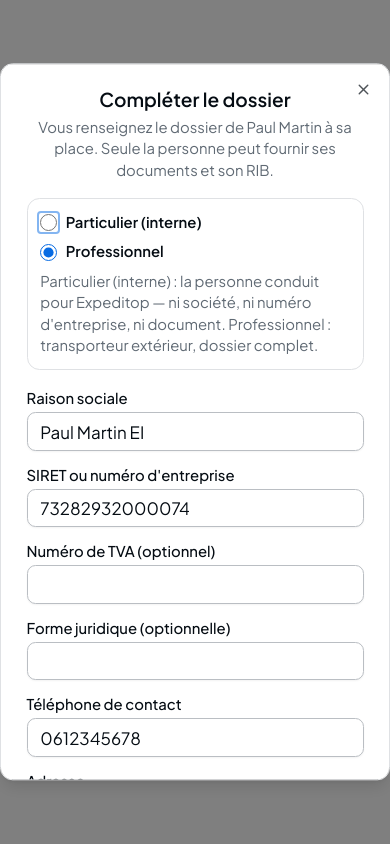
CarrierFileEditor · the kind is a radio › drops the company fields and saves a particulier
The width and height of the screenshot is (390, 844).
Later steps or results of the test are not shown.
Step 1. Click the radio button labelled "Particulier (interne)" → (49, 223), box left=40, top=214, right=57, bottom=231
(page scrolled)
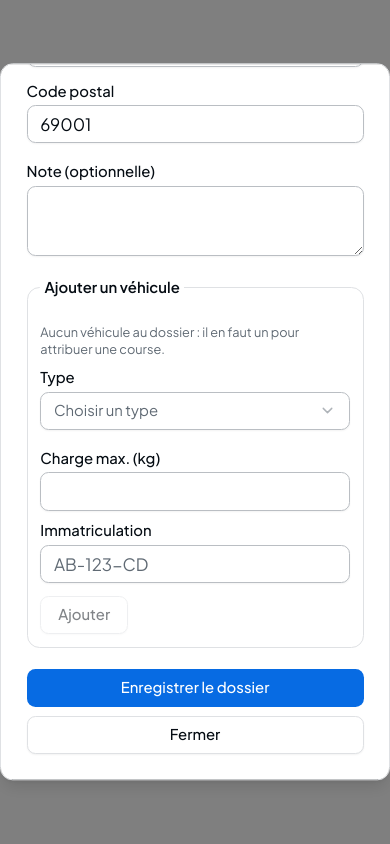
Expected: the label labelled "Raison sociale" is gone
